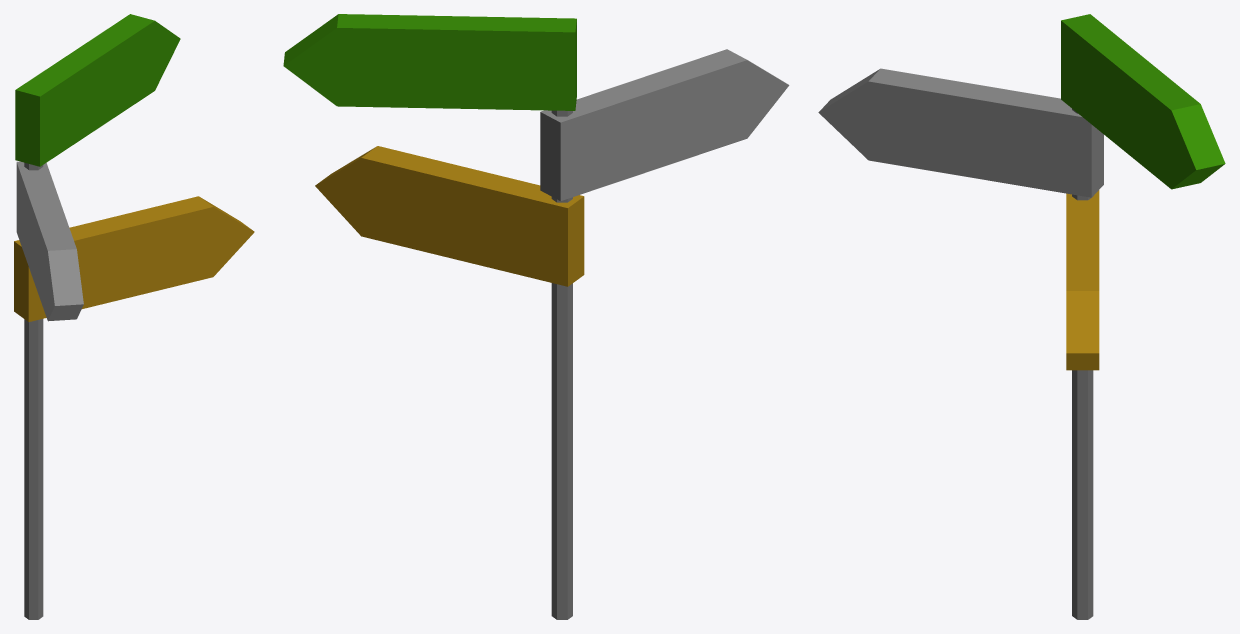
Rendered from low poly road sign.fbx.
3 renders of one model, left to right at view 1: azimuth 30°, elevation 25°; view 2: azimuth 150°, elevation 25°; view 3: azimuth 270°, elevation 25°, orthographic. The views are drawn at different scales.
Visible parts, largest first — view 1: Cube; view 2: Cube; view 3: Cube.
Boxes of the visible parts, x1,y1,x2,y2 form: Cube: (14, 14, 254, 619); Cube: (283, 14, 789, 619); Cube: (818, 14, 1225, 619).
Bounding box in the file's own units: 178 × 295 × 183.
